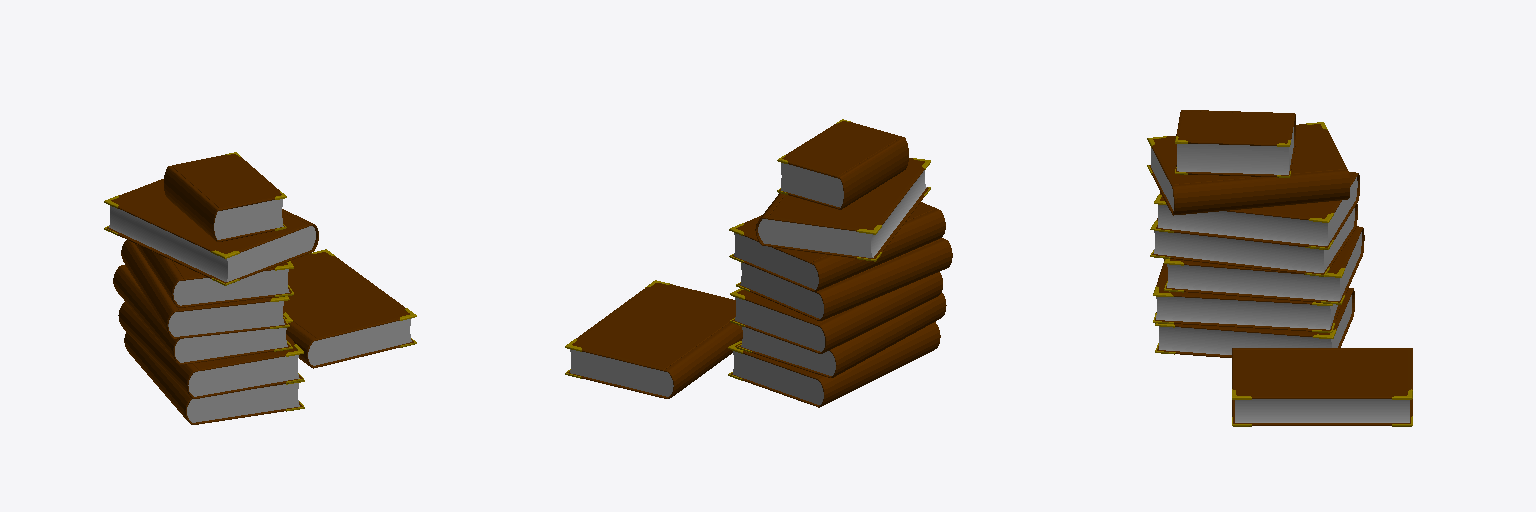
Rendered from books.obj.
3 renders of one model, left to right at view 1: azimuth 30°, elevation 25°; view 2: azimuth 150°, elevation 25°; view 3: azimuth 270°, elevation 25°, orthographic.
Parts seen in each view (by area): view 1: Line043.001, Line044.001, Line034.001, Line032.001, Line008.001, Line022.001, Line002.001, Line010.001, Line028.001, Line038.001, Line016.001, Line020.001 (+4 smaller); view 2: Line043.001, Line044.001, Line032.001, Line020.001, Line014.001, Line026.001, Line034.001, Line001.001, Line008.001, Line038.001, Line002.001, Line016.001 (+4 smaller); view 3: Line043.001, Line032.001, Line016.001, Line022.001, Line028.001, Line010.001, Line038.001, Line044.001, Line002.001, Line046.001, Line026.001, Line014.001 (+3 smaller).
Part boxes in pixels (x1,y1,x2,y2): Line043.001: (283, 252, 413, 368); Line044.001: (164, 154, 284, 241); Line034.001: (109, 206, 315, 281); Line032.001: (107, 179, 318, 283); Line008.001: (118, 302, 302, 398); Line022.001: (168, 301, 284, 336); Line002.001: (187, 383, 299, 422); Line010.001: (188, 355, 299, 396); Line028.001: (173, 269, 289, 305); Line038.001: (308, 318, 411, 365); Line016.001: (175, 328, 287, 362); Line020.001: (121, 240, 287, 338); Line043.001: (567, 283, 742, 398); Line044.001: (779, 121, 908, 209); Line032.001: (755, 158, 928, 258); Line020.001: (738, 238, 952, 320); Line014.001: (732, 272, 942, 353); Line026.001: (732, 202, 945, 291); Line034.001: (758, 170, 926, 257); Line001.001: (731, 322, 940, 407); Line008.001: (738, 293, 946, 377); Line038.001: (570, 349, 673, 396); Line002.001: (733, 351, 823, 404); Line016.001: (735, 297, 824, 351); Line043.001: (1232, 348, 1412, 425); Line032.001: (1149, 124, 1349, 215); Line016.001: (1167, 232, 1361, 300); Line022.001: (1154, 208, 1354, 272); Line028.001: (1158, 177, 1357, 245); Line010.001: (1156, 297, 1337, 329); Line038.001: (1235, 399, 1409, 422); Line044.001: (1176, 110, 1295, 176); Line002.001: (1159, 295, 1351, 354); Line046.001: (1177, 127, 1293, 174); Line026.001: (1156, 172, 1359, 247); Line014.001: (1166, 226, 1364, 302).
Bounding box in the file's own units: 11.4 × 8.28 × 9.56.